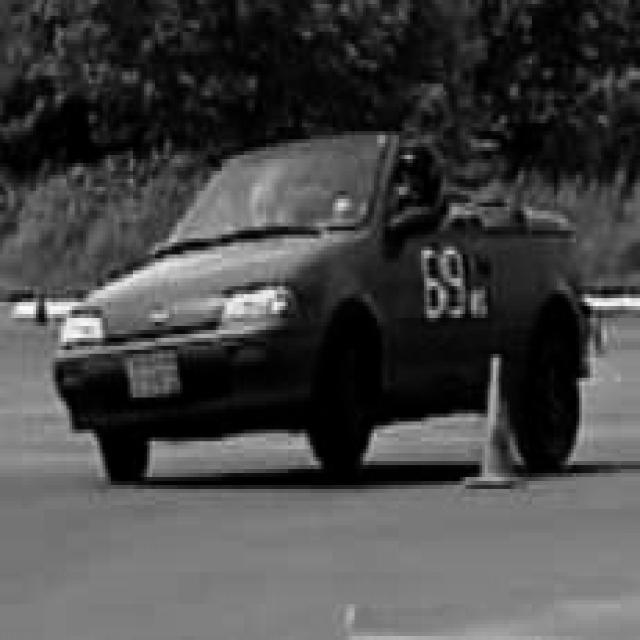car: (50, 127, 604, 481)
